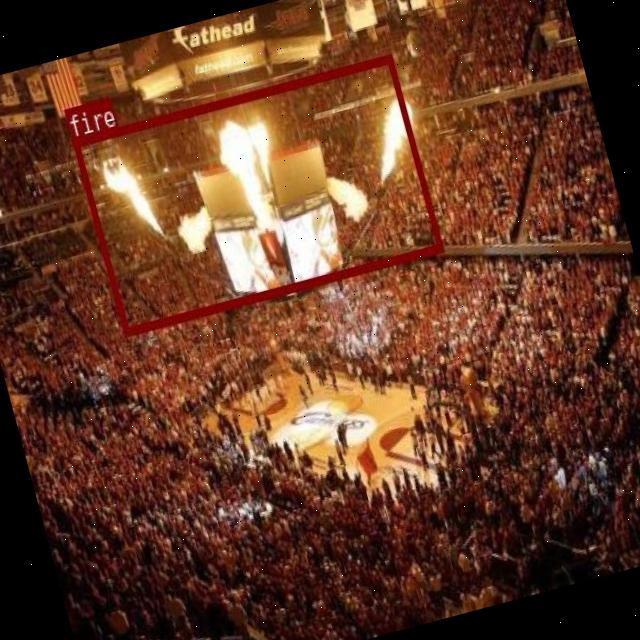fire: (71, 53, 442, 334)
